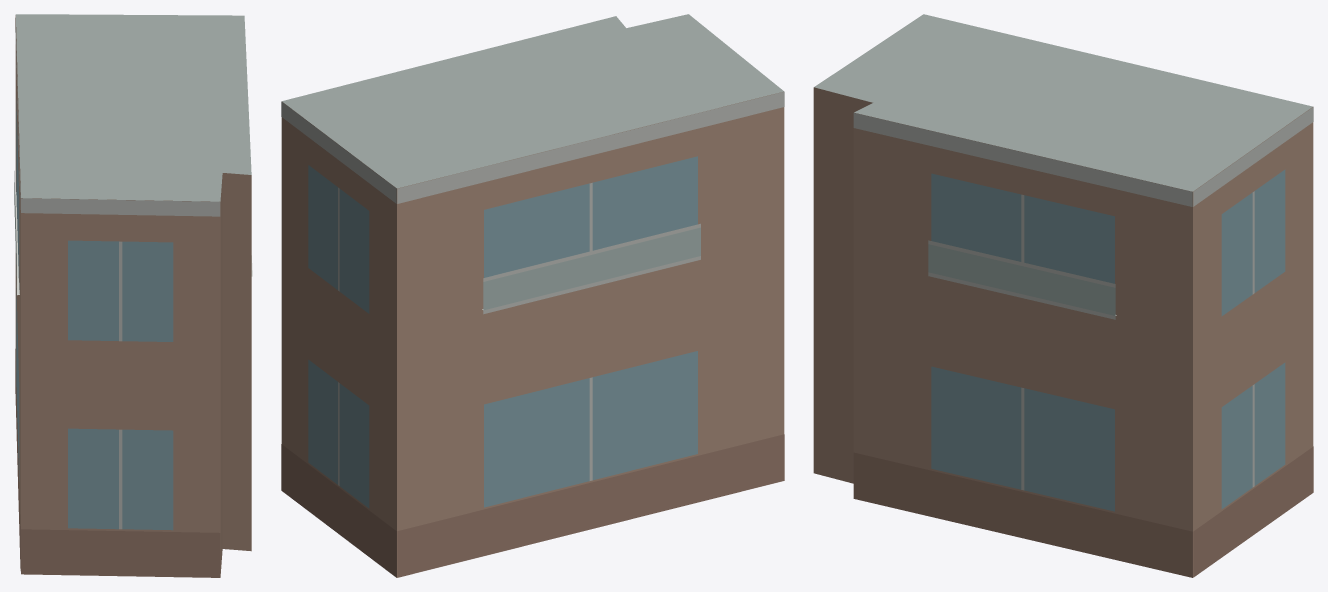
Rendered from survey-upis-32814482.glb.
3 renders of one model, left to right at view 1: azimuth 30°, elevation 25°; view 2: azimuth 150°, elevation 25°; view 3: azimuth 270°, elevation 25°, orthographic. The views are drawn at different scales.
Visible parts, largest first — view 1: survey-upis-32814482.tmp; view 2: survey-upis-32814482.tmp; view 3: survey-upis-32814482.tmp.
Boxes of the visible parts, <box> form: survey-upis-32814482.tmp: <box>14,14,252,577</box>; survey-upis-32814482.tmp: <box>281,14,784,577</box>; survey-upis-32814482.tmp: <box>813,14,1313,577</box>.
Size of the model in its own units: 6.03 by 6.1 by 7.16.
